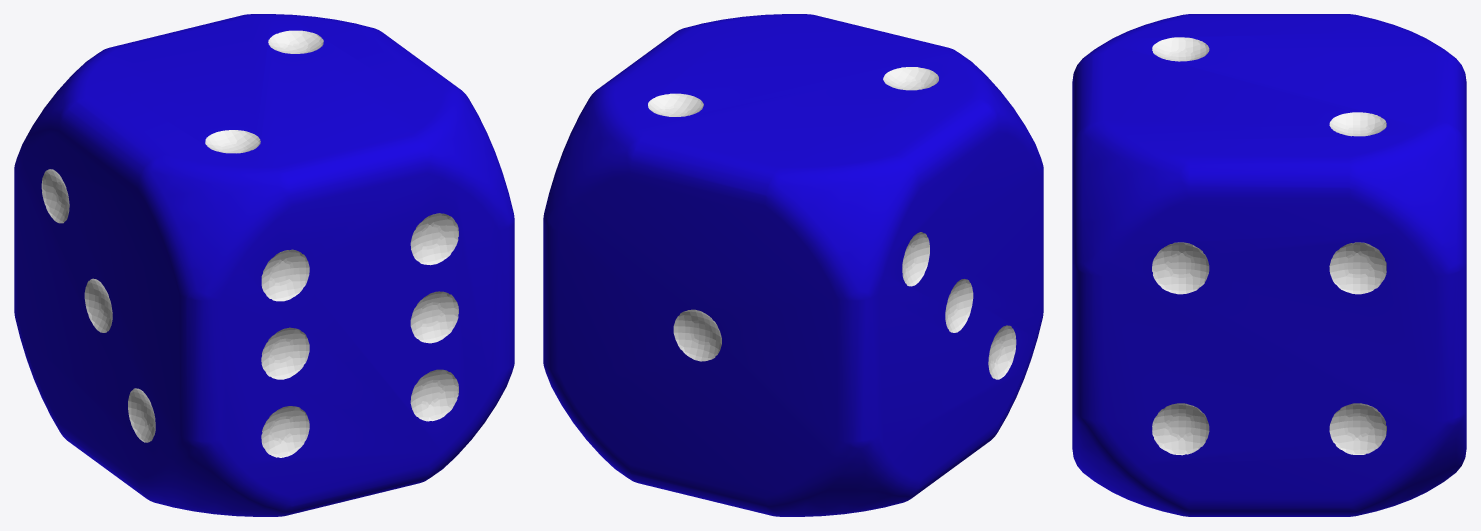
The model's file is Die Dotted Primary.glb.
The picture shows the model from 3 angles, left to right: view 1: azimuth 30°, elevation 25°; view 2: azimuth 150°, elevation 25°; view 3: azimuth 270°, elevation 25°; orthographic projection. The views are drawn at different scales.
Parts seen in each view (by area): view 1: Die_Body; view 2: Die_Body; view 3: Die_Body.
Boxes of the visible parts, x1,y1,x2,y2 form: Die_Body: [14, 14, 514, 516]; Die_Body: [543, 14, 1043, 516]; Die_Body: [1072, 14, 1466, 516].
Bounding box in the file's own units: 1 × 1 × 1.
